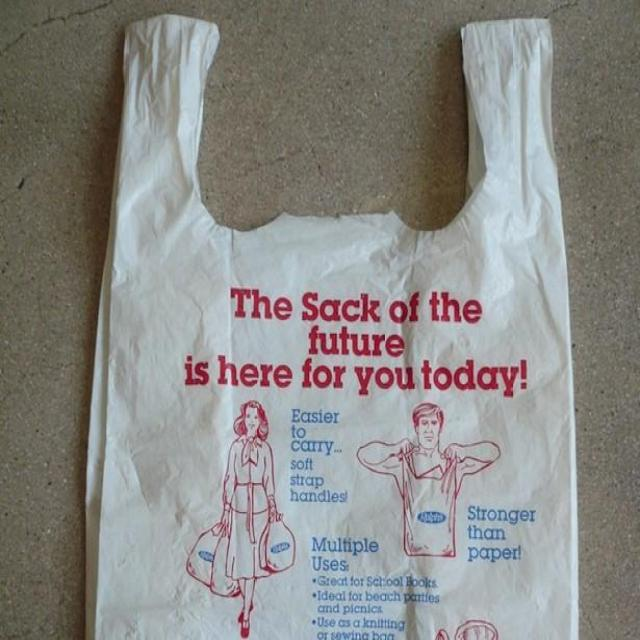plastic_bag: (79, 6, 595, 640)
